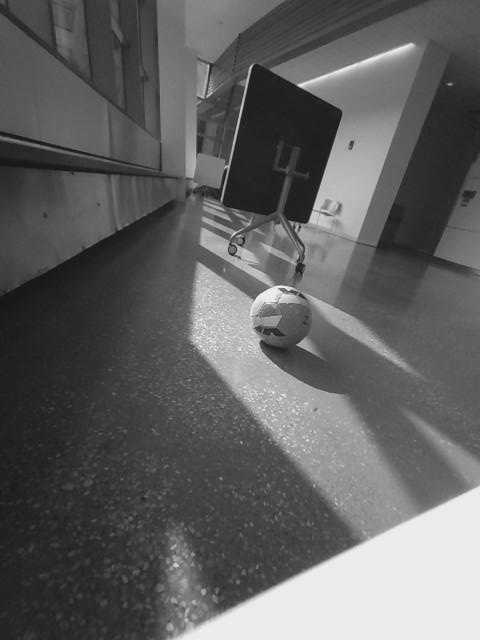ball: (248, 284, 315, 351)
